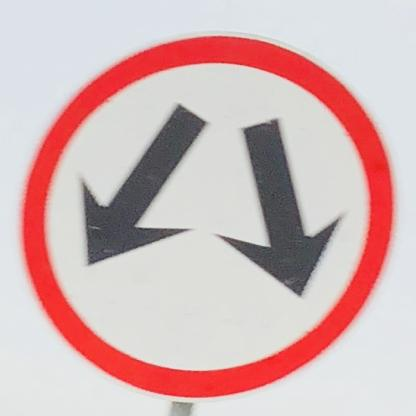Road Divides: (22, 34, 389, 403)
